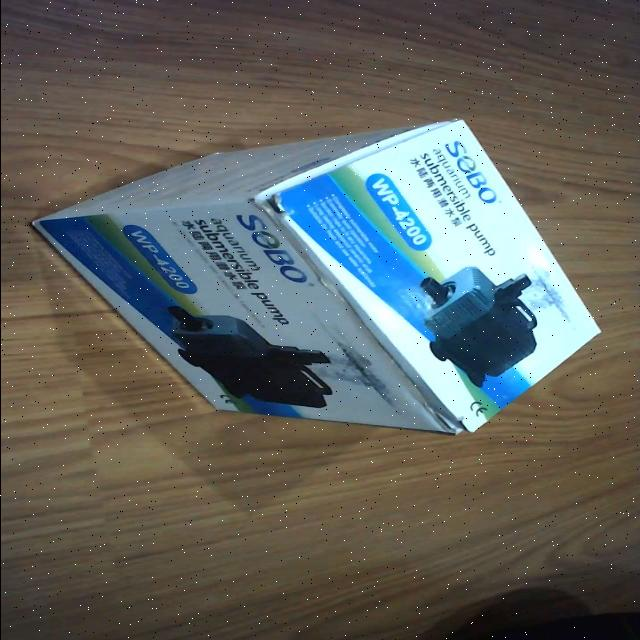SOBO_WP_4200: (24, 119, 614, 437)
